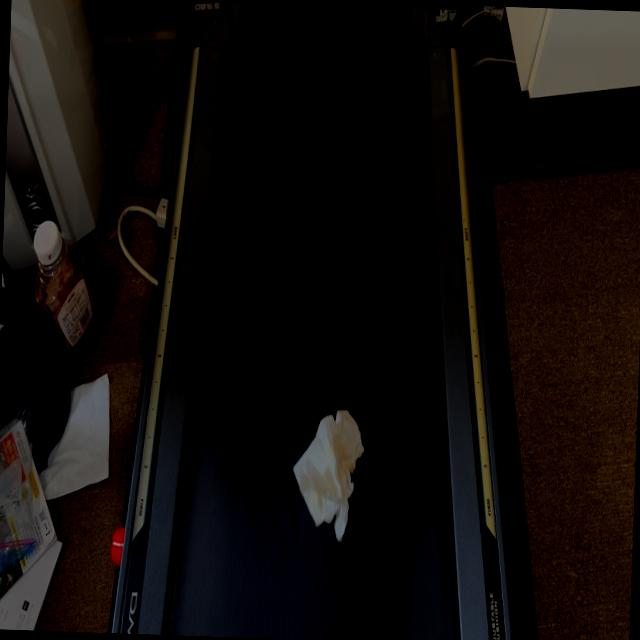Recycle: (283, 398, 393, 557)
